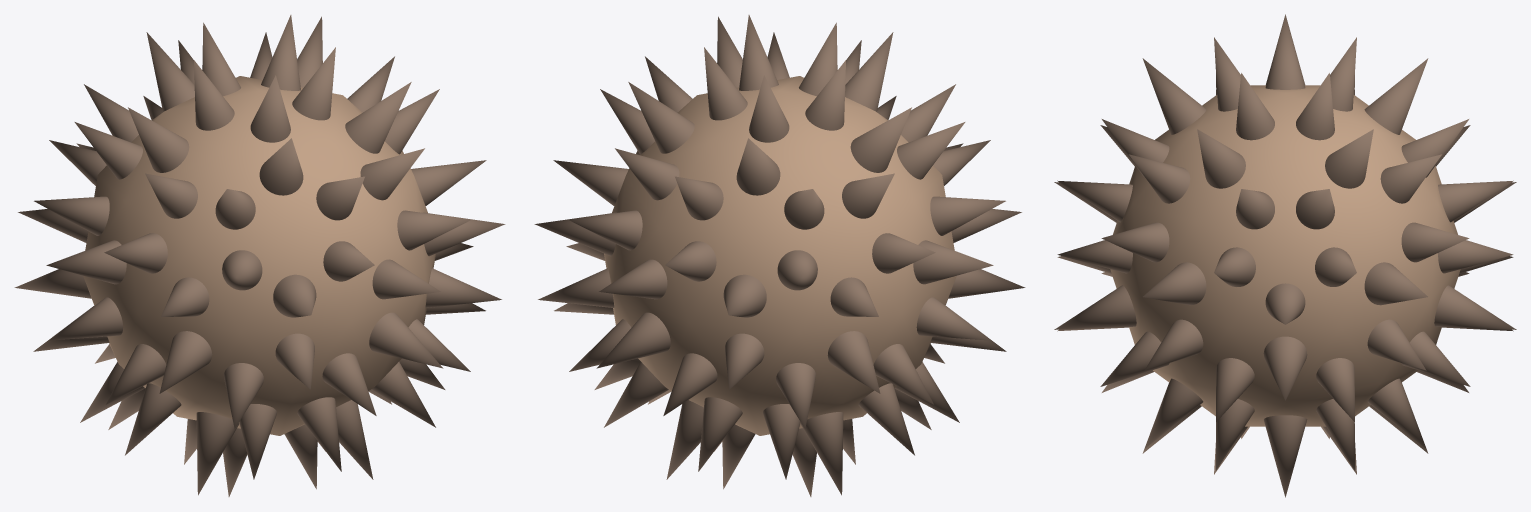
File: enemy_ball.fbx
3 renders of one model, left to right at view 1: azimuth 30°, elevation 25°; view 2: azimuth 150°, elevation 25°; view 3: azimuth 270°, elevation 25°, orthographic.
Parts seen in each view (by area): view 1: Enemy, Enemy|Spike|Dupli|33, Enemy|Spike|Dupli|60, Enemy|Spike|Dupli|27, Enemy|Spike|Dupli|72, Enemy|Spike|Dupli|57, Enemy|Spike|Dupli|42, Enemy|Spike|Dupli|24, Enemy|Spike|Dupli|32, Enemy|Spike|Dupli|47, Enemy|Spike|Dupli|12, Enemy|Spike|Dupli|41 (+43 smaller); view 2: Enemy, Enemy|Spike|Dupli|21, Enemy|Spike|Dupli|51, Enemy|Spike|Dupli|27, Enemy|Spike|Dupli|69, Enemy|Spike|Dupli|54, Enemy|Spike|Dupli|42, Enemy|Spike|Dupli|30, Enemy|Spike|Dupli|20, Enemy|Spike|Dupli|12, Enemy|Spike|Dupli|37, Enemy|Spike|Dupli|43 (+43 smaller); view 3: Enemy, Enemy|Spike|Dupli|75, Enemy|Spike|Dupli|51, Enemy|Spike|Dupli|60, Enemy|Spike|Dupli|30, Enemy|Spike|Dupli|24, Enemy|Spike|Dupli|33, Enemy|Spike|Dupli|21, Enemy|Spike|Dupli|36, Enemy|Spike|Dupli|48, Enemy|Spike|Dupli|63, Enemy|Spike|Dupli|15 (+29 smaller).
Boxes of the visible parts, x1=… form: Enemy: x1=83, y1=76, x2=435, y2=435; Enemy|Spike|Dupli|33: x1=345, y1=82, x2=411, y2=153; Enemy|Spike|Dupli|60: x1=369, y1=312, x2=443, y2=368; Enemy|Spike|Dupli|27: x1=128, y1=107, x2=189, y2=172; Enemy|Spike|Dupli|72: x1=196, y1=412, x2=239, y2=495; Enemy|Spike|Dupli|57: x1=159, y1=331, x2=212, y2=393; Enemy|Spike|Dupli|42: x1=46, y1=240, x2=126, y2=284; Enemy|Spike|Dupli|24: x1=146, y1=32, x2=194, y2=111; Enemy|Spike|Dupli|32: x1=292, y1=47, x2=335, y2=120; Enemy|Spike|Dupli|47: x1=397, y1=210, x2=471, y2=250; Enemy|Spike|Dupli|12: x1=49, y1=297, x2=123, y2=340; Enemy|Spike|Dupli|41: x1=34, y1=196, x2=109, y2=235; Enemy: x1=604, y1=76, x2=956, y2=435; Enemy|Spike|Dupli|21: x1=628, y1=82, x2=694, y2=153; Enemy|Spike|Dupli|51: x1=596, y1=312, x2=670, y2=368; Enemy|Spike|Dupli|27: x1=850, y1=107, x2=911, y2=172; Enemy|Spike|Dupli|69: x1=800, y1=412, x2=843, y2=495; Enemy|Spike|Dupli|54: x1=827, y1=331, x2=880, y2=393; Enemy|Spike|Dupli|42: x1=913, y1=240, x2=993, y2=284; Enemy|Spike|Dupli|30: x1=845, y1=32, x2=893, y2=111; Enemy|Spike|Dupli|20: x1=704, y1=47, x2=747, y2=120; Enemy|Spike|Dupli|12: x1=916, y1=297, x2=990, y2=340; Enemy|Spike|Dupli|37: x1=568, y1=210, x2=642, y2=250; Enemy|Spike|Dupli|43: x1=930, y1=196, x2=1005, y2=235; Enemy: x1=1110, y1=85, x2=1460, y2=426; Enemy|Spike|Dupli|75: x1=1264, y1=415, x2=1307, y2=497; Enemy|Spike|Dupli|51: x1=1434, y1=285, x2=1516, y2=329; Enemy|Spike|Dupli|60: x1=1054, y1=285, x2=1136, y2=329; Enemy|Spike|Dupli|30: x1=1142, y1=58, x2=1206, y2=134; Enemy|Spike|Dupli|24: x1=1364, y1=58, x2=1428, y2=134; Enemy|Spike|Dupli|33: x1=1197, y1=129, x2=1245, y2=188; Enemy|Spike|Dupli|21: x1=1325, y1=129, x2=1373, y2=188; Enemy|Spike|Dupli|36: x1=1364, y1=262, x2=1427, y2=305; Enemy|Spike|Dupli|48: x1=1143, y1=262, x2=1206, y2=305; Enemy|Spike|Dupli|63: x1=1263, y1=336, x2=1307, y2=400; Enemy|Spike|Dupli|15: x1=1129, y1=154, x2=1190, y2=203.
Size of the model in its own units: 132 by 125 by 125.
